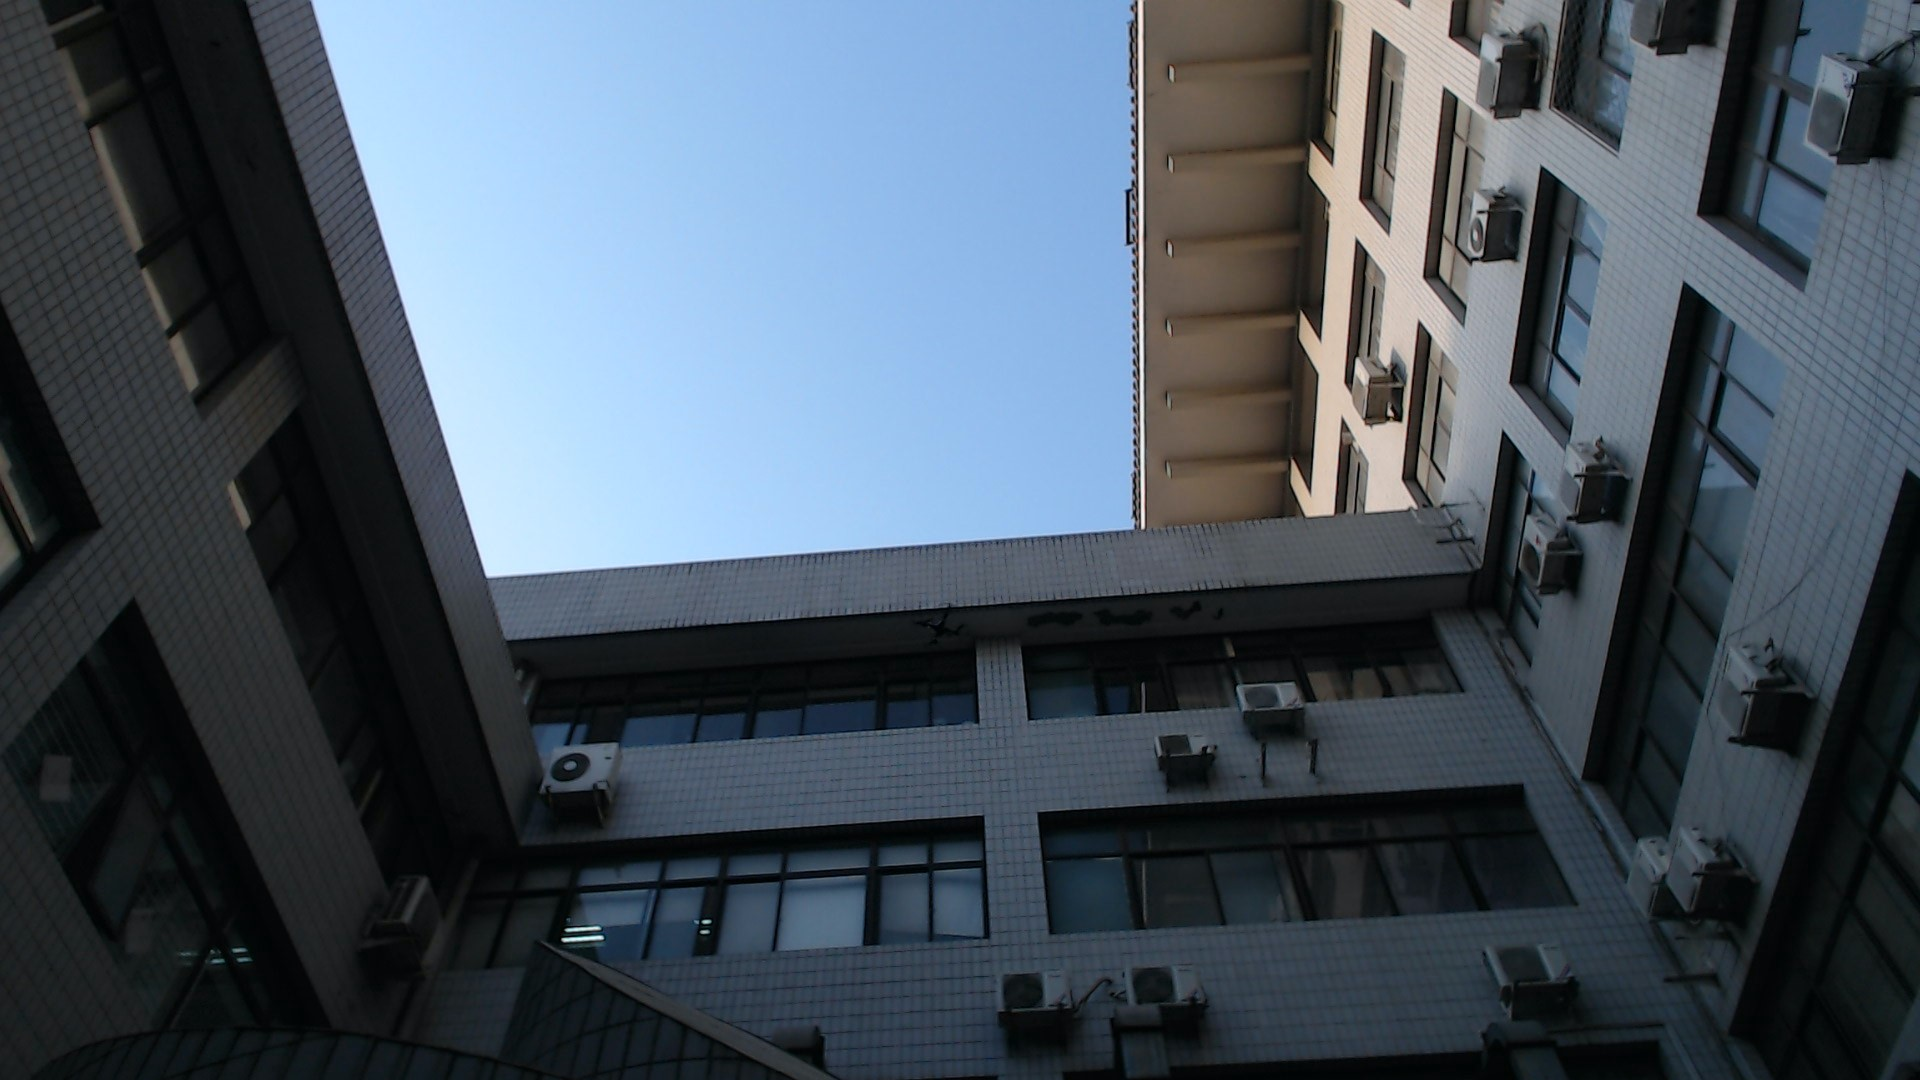drone: (902, 597, 976, 653)
